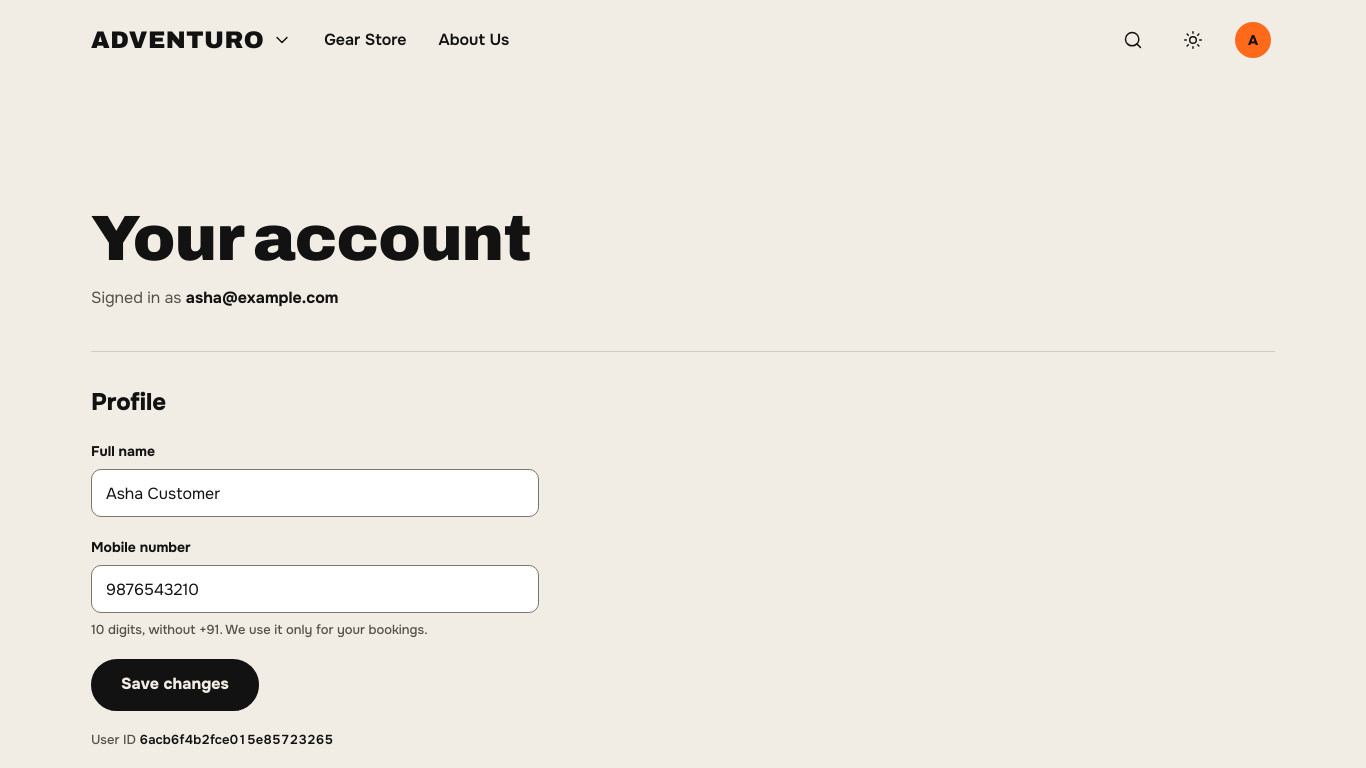
Test: AccountMenu › says so in our own words when the clipboard refuses
Click the button named "Account": [1253, 40] box [1231,18,1275,62]
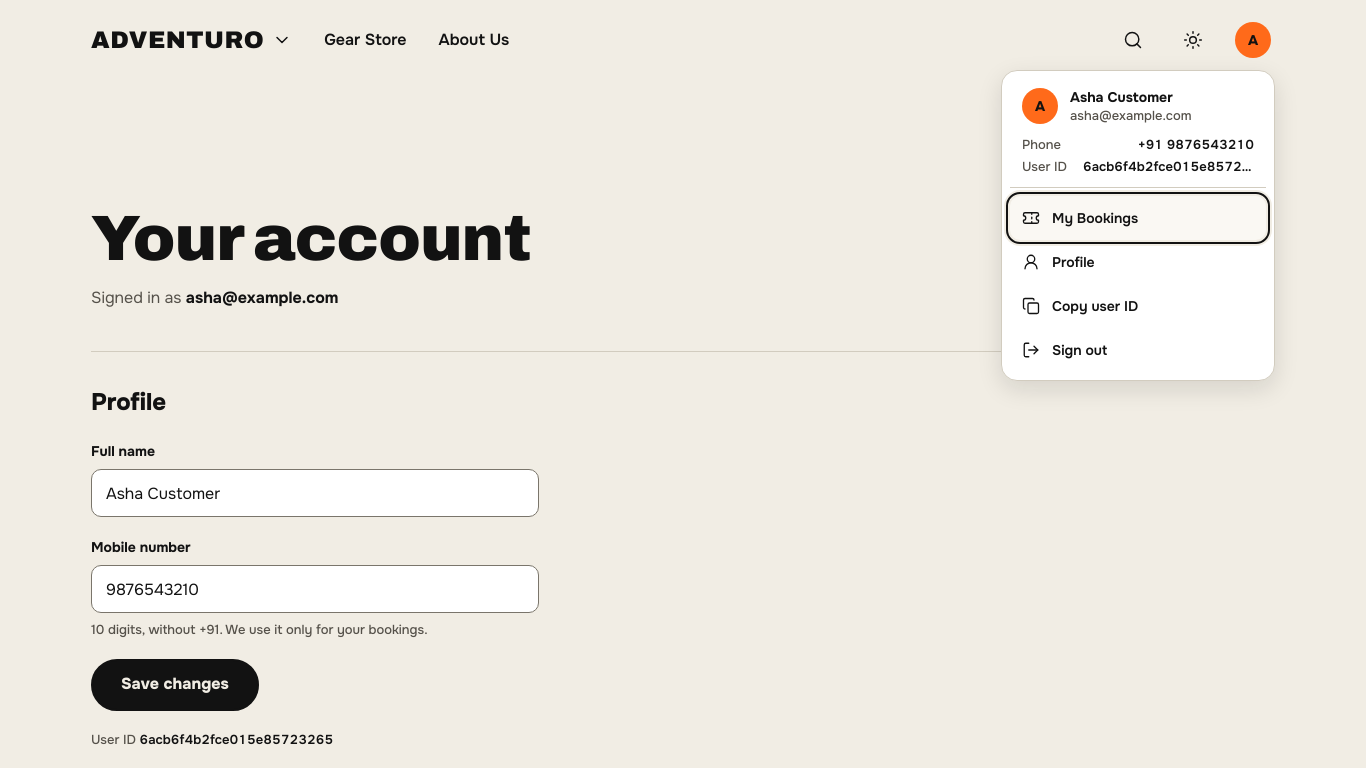
Click the menu item "Copy user ID": [1138, 306] box [1010,284,1266,328]
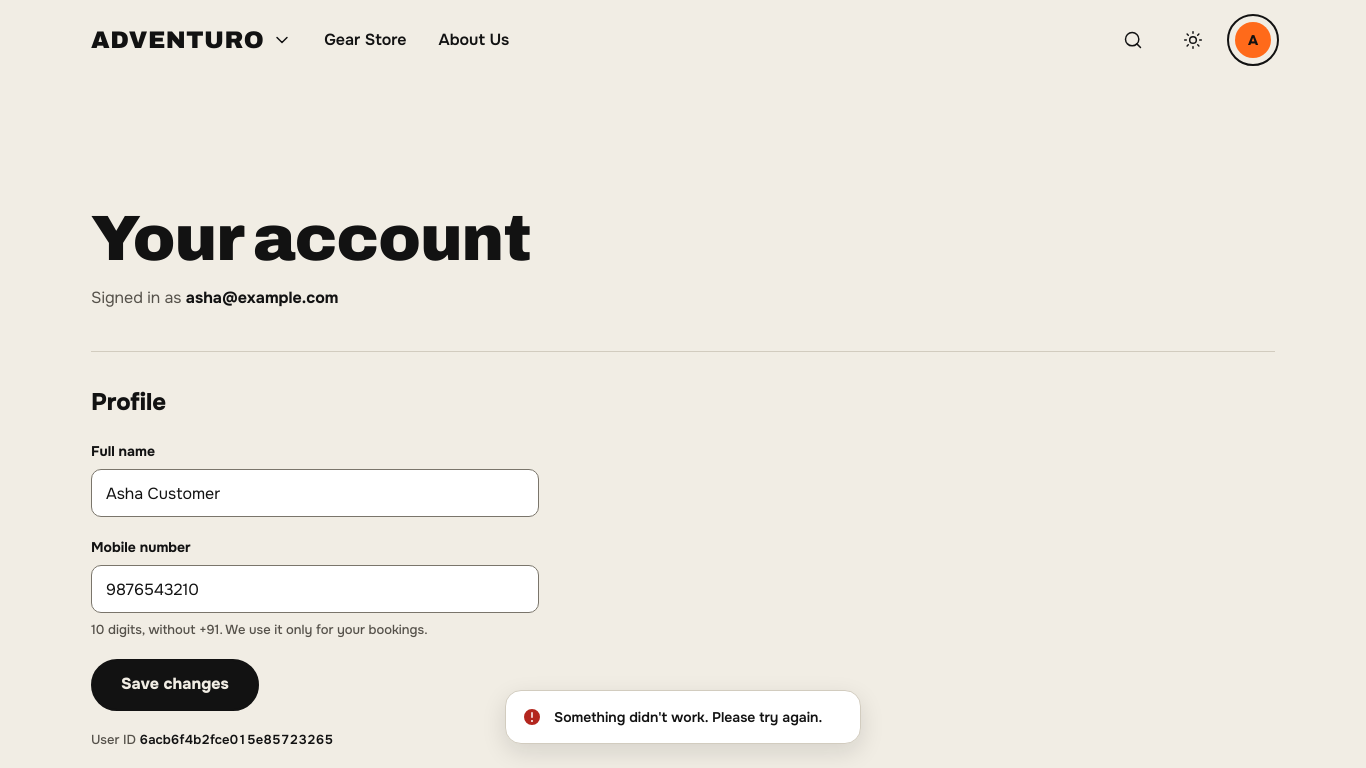
Check: the text "Something didn't work. Please try again." is shown, box [554,707,822,727]
